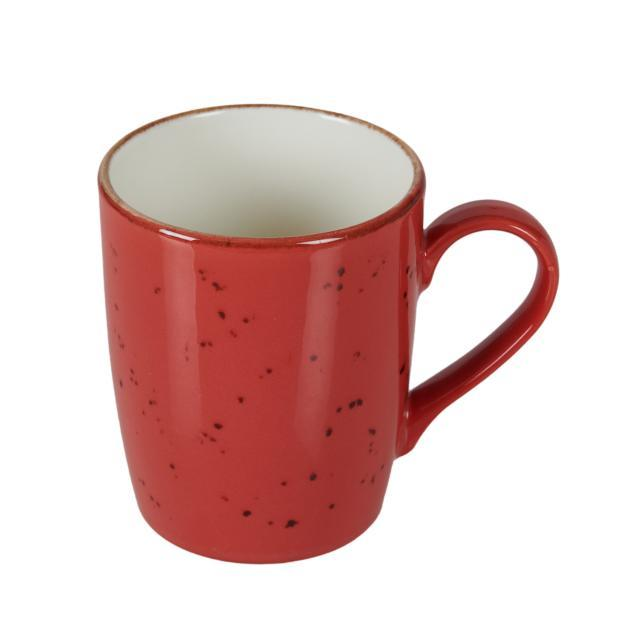Coffee Mug: (95, 102, 560, 566)
